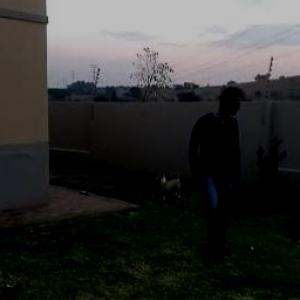follow: (184, 81, 241, 257)
